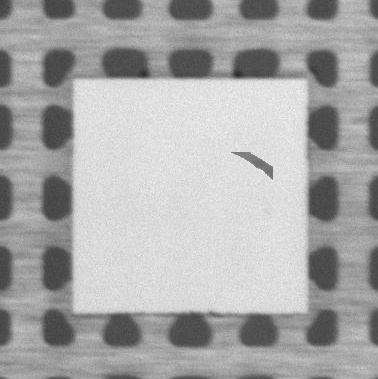DIE_INK: (225, 150, 273, 186)
